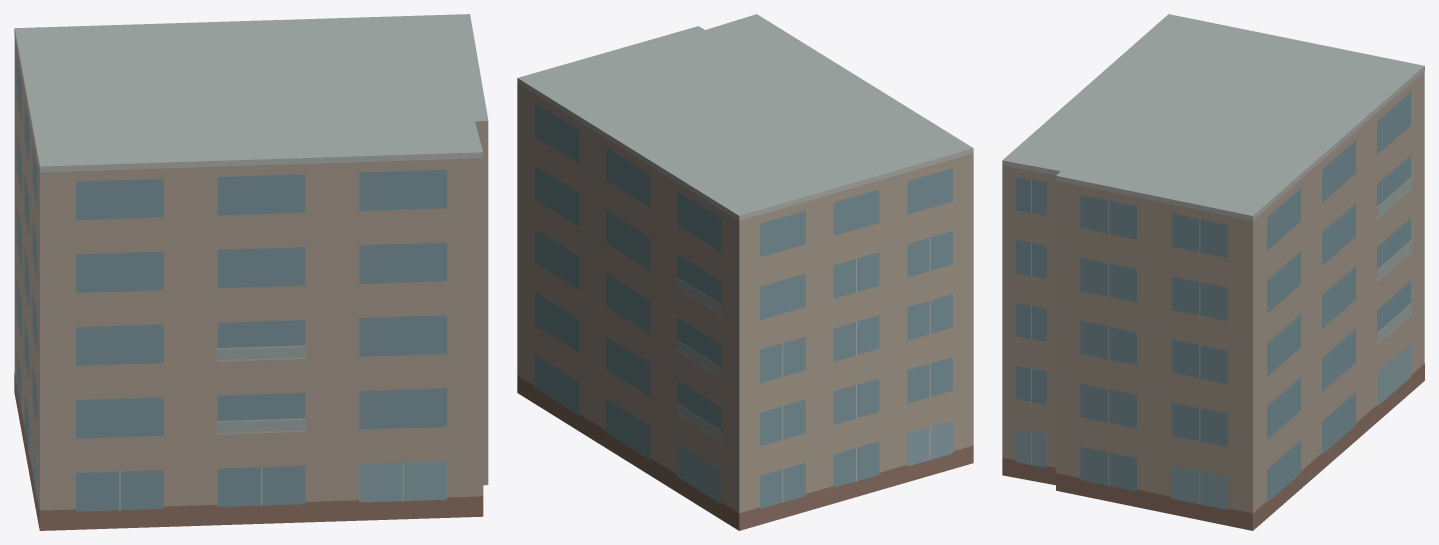
Rendered from survey-upis-32628831.glb.
The picture shows the model from 3 angles, left to right: view 1: azimuth 30°, elevation 25°; view 2: azimuth 150°, elevation 25°; view 3: azimuth 270°, elevation 25°; orthographic projection. The views are drawn at different scales.
Parts seen in each view (by area): view 1: survey-upis-32628831.tmp; view 2: survey-upis-32628831.tmp; view 3: survey-upis-32628831.tmp.
Boxes of the visible parts, x1,y1,x2,y2 form: survey-upis-32628831.tmp: (14,14,488,530); survey-upis-32628831.tmp: (517,14,973,530); survey-upis-32628831.tmp: (1002,14,1424,530).
Size of the model in its own units: 20.99 by 15.25 by 18.55.
